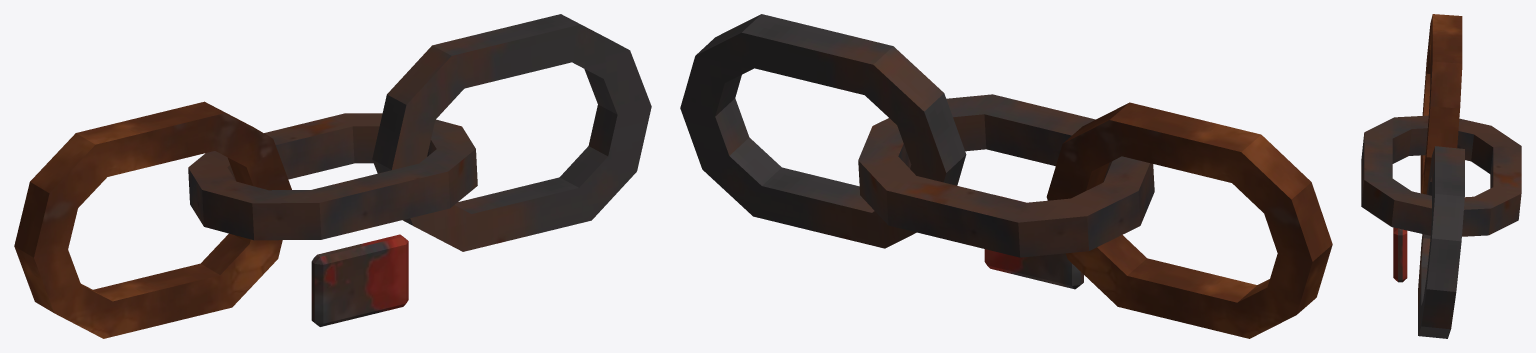
The model's file is Loot_Chain.glb.
3 views of the same model, side by side, from view 1: azimuth 30°, elevation 25°; view 2: azimuth 150°, elevation 25°; view 3: azimuth 270°, elevation 25° (orthographic). The views are drawn at different scales.
Parts seen in each view (by area): view 1: Loot_Chain; view 2: Loot_Chain; view 3: Loot_Chain.
Boxes of the visible parts, <box> form: Loot_Chain: <box>14,14,651,338</box>; Loot_Chain: <box>680,14,1332,338</box>; Loot_Chain: <box>1361,14,1521,338</box>.
Bounding box in the file's own units: 0.4603 × 0.1532 × 0.1363.
Materials: 2 (2 with a texture image).
